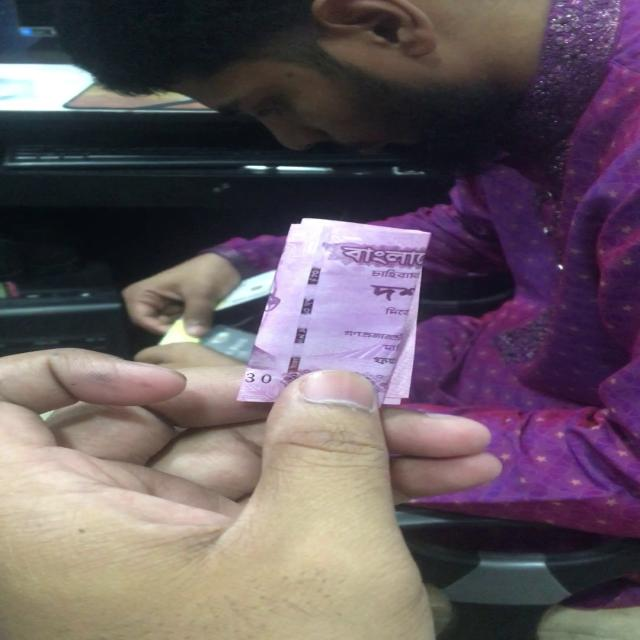Taka: (258, 218, 422, 404)
